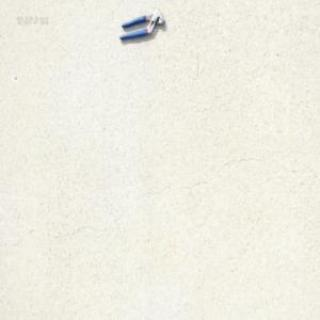Pliertrack_idkeyframe: (118, 9, 165, 40)
